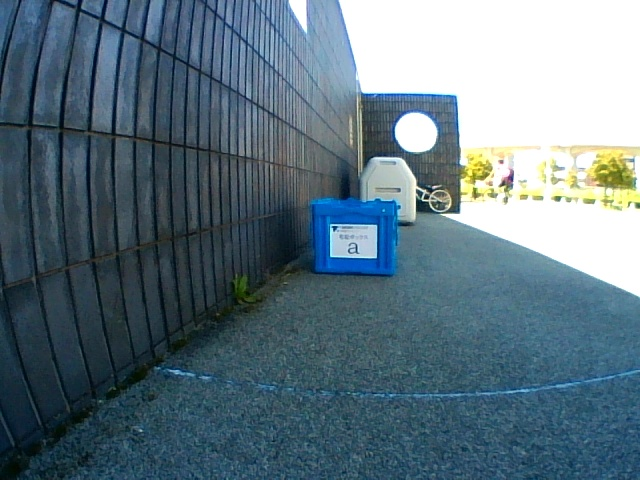blue_box: (311, 198, 399, 275)
tag_a: (330, 225, 377, 256)
